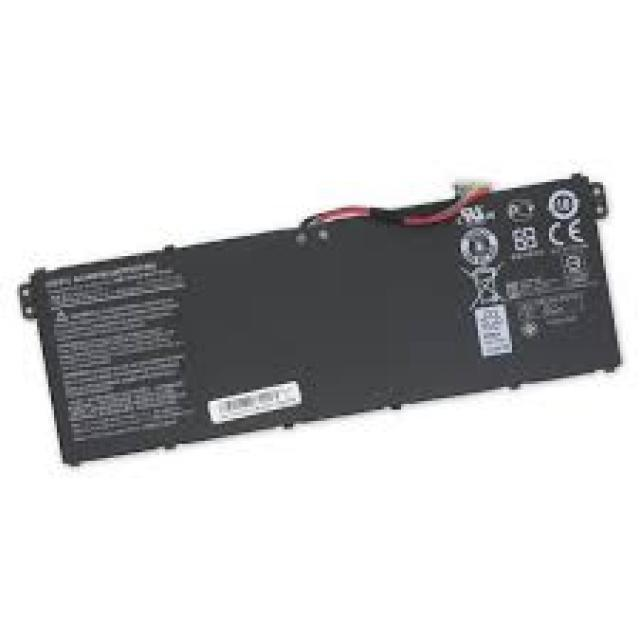battery: (21, 175, 624, 464)
